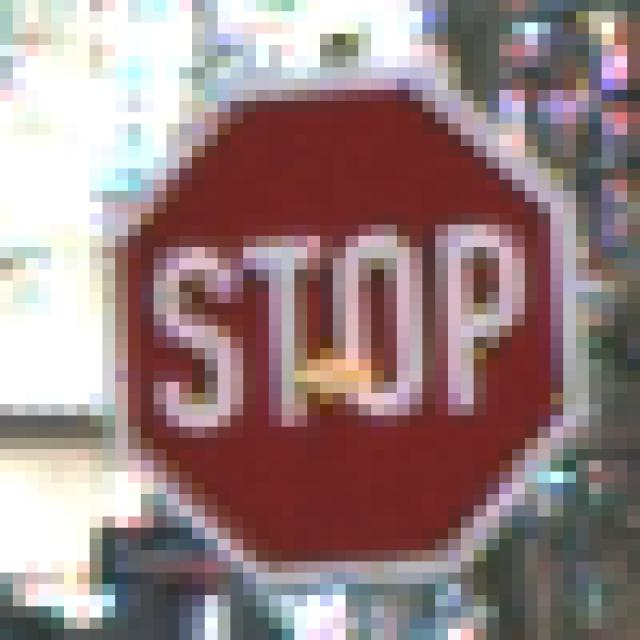STOP: (78, 57, 577, 574)
